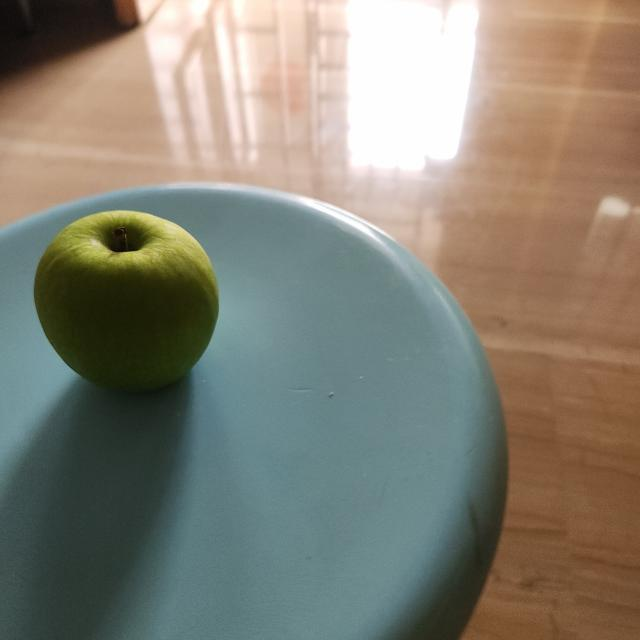apple: (29, 210, 222, 408)
